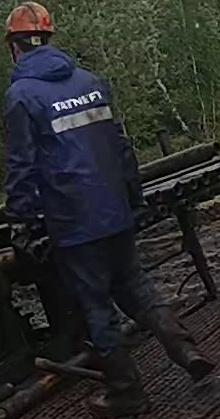gloves: (9, 216, 53, 264)
helmet: (3, 0, 58, 43)
vest: (2, 45, 144, 247)
